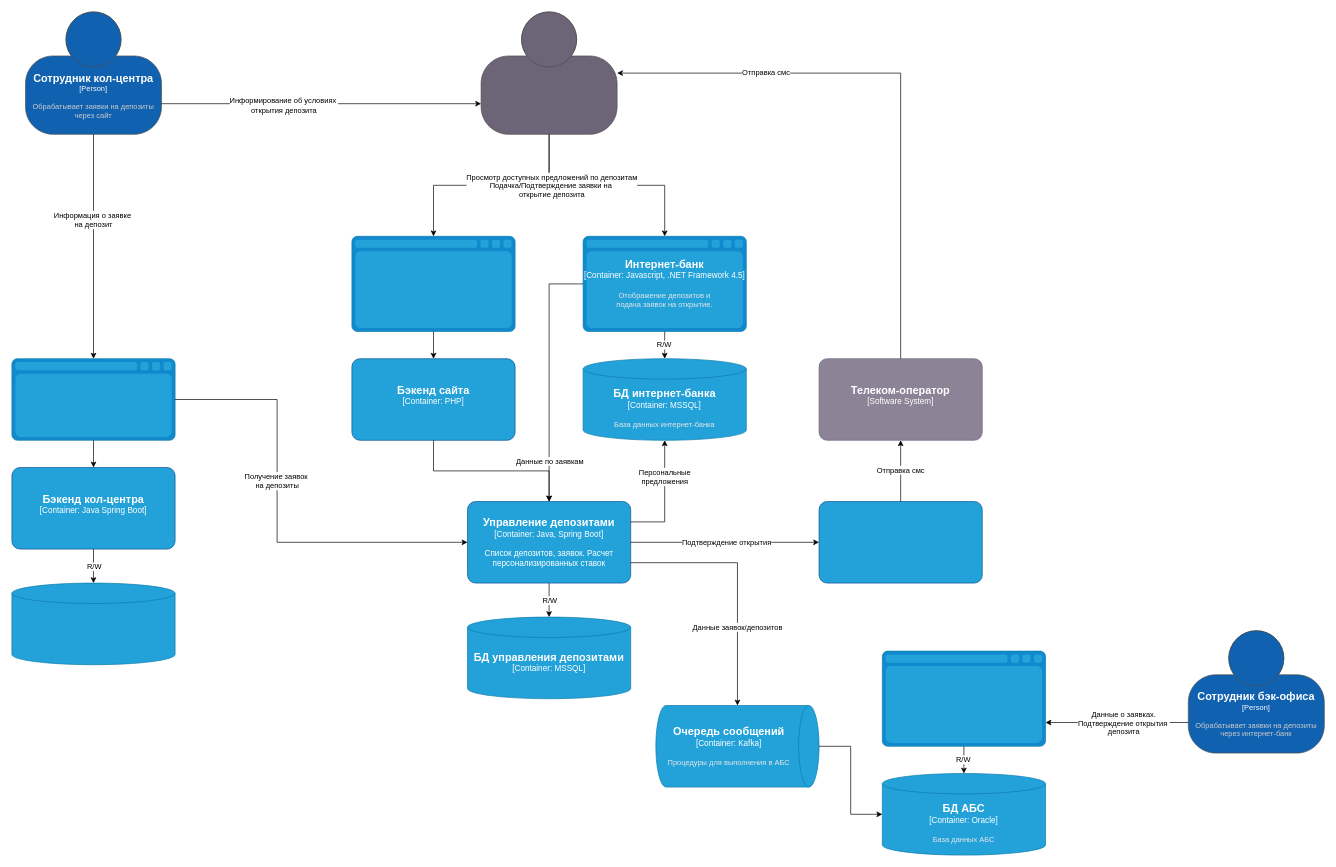
This 1336x867 diagram has some shape labels left out. Here are the shapes that lost their labels. From the top down, the centre of each, then its label:
pixel 548 72: Клиент банка [Person] Новый или существующий
pixel 433 284: Сайт [Container: React.js] Отображение депозитов и подача заявок на открытие.
pixel 93 399: UI кол-центра [Container: React.js] Обработка заявок
pixel 900 542: СМС-шлюз [Container:]
pixel 93 623: БД кол-центра [Container: PostgreSQL] База данных кол-центра
pixel 964 698: Клиент АБС [Container: Delphi] Банковские операции
